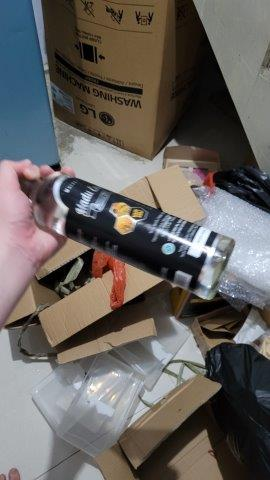botolkaca: (5, 163, 237, 303)
